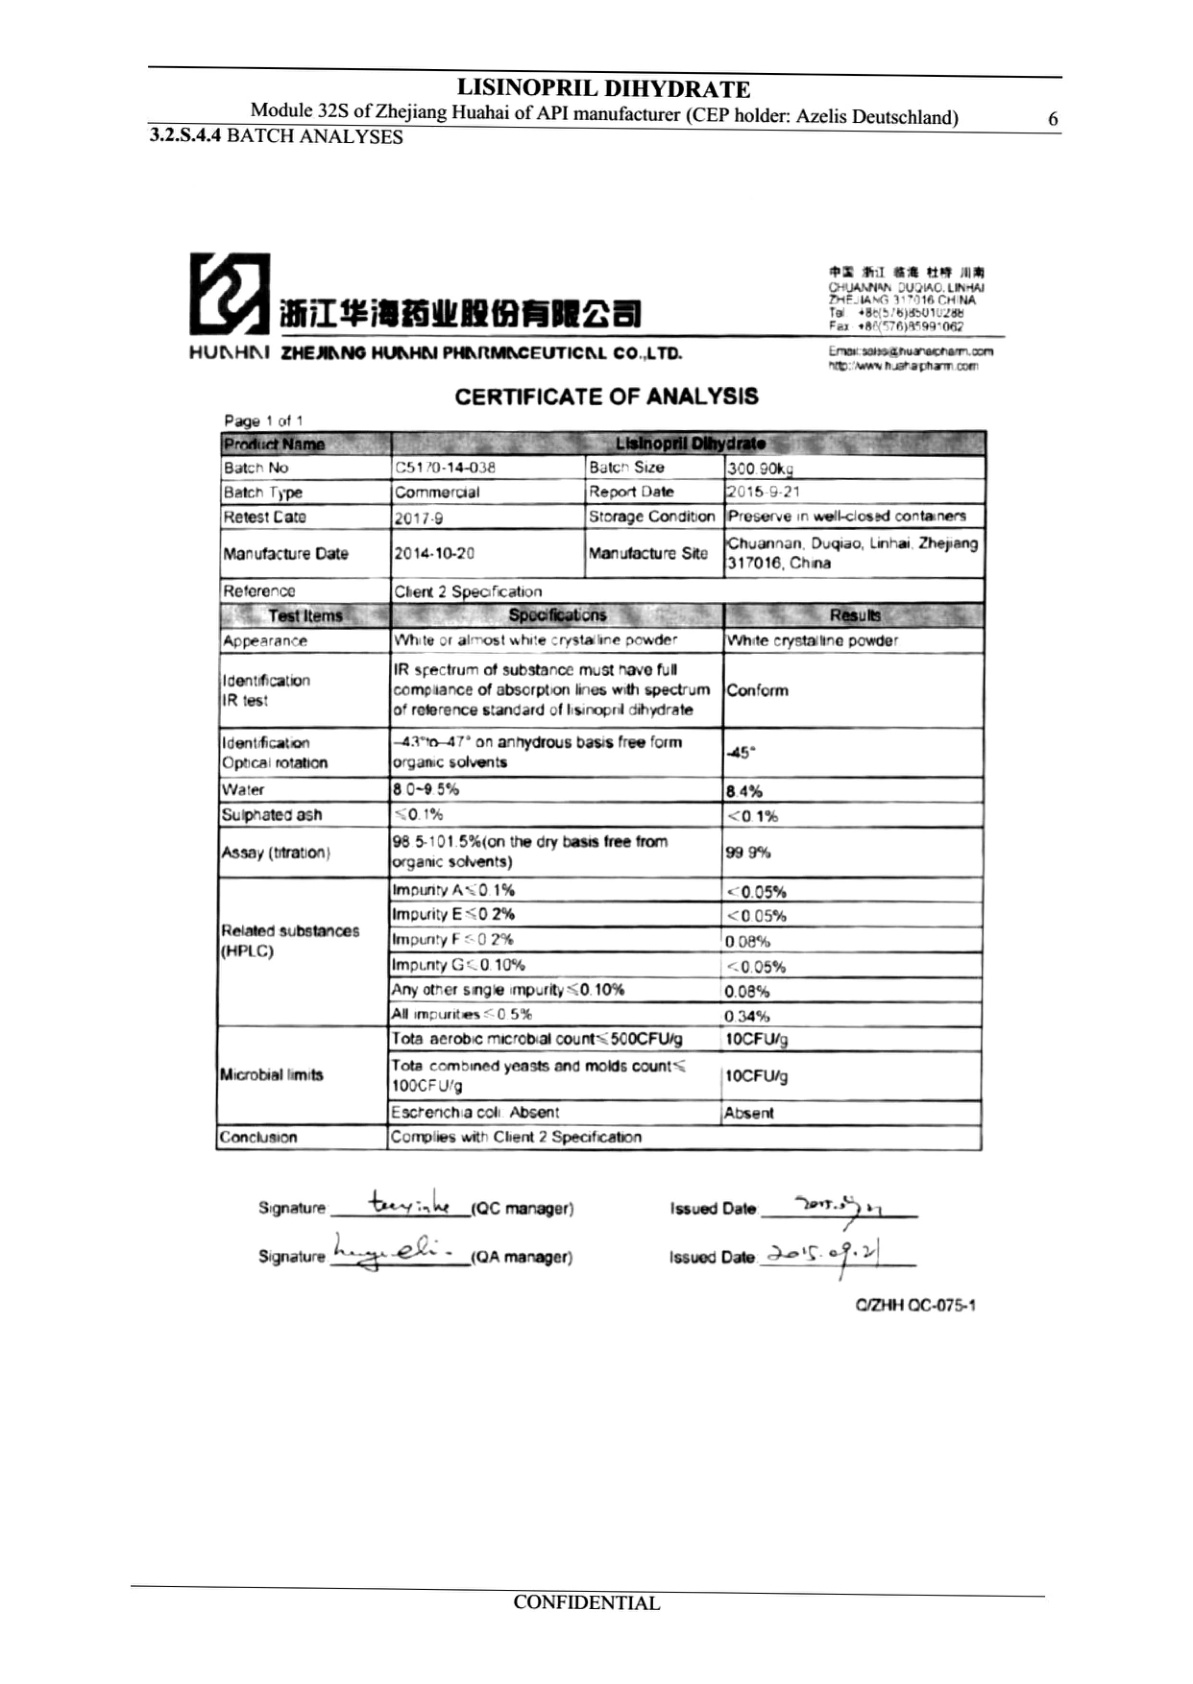merged_cells: (214, 427, 988, 1152)
